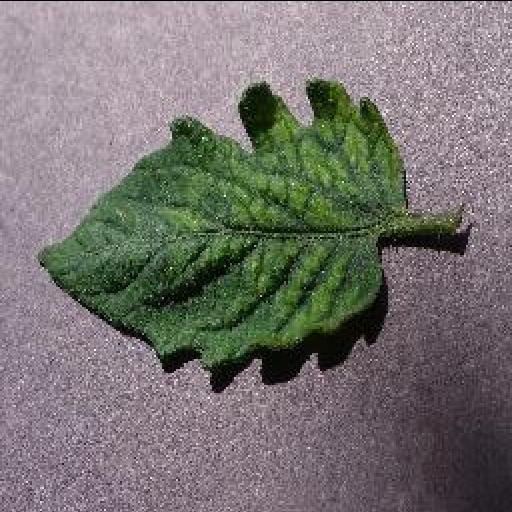Mosaic Virus: (31, 73, 409, 375)
